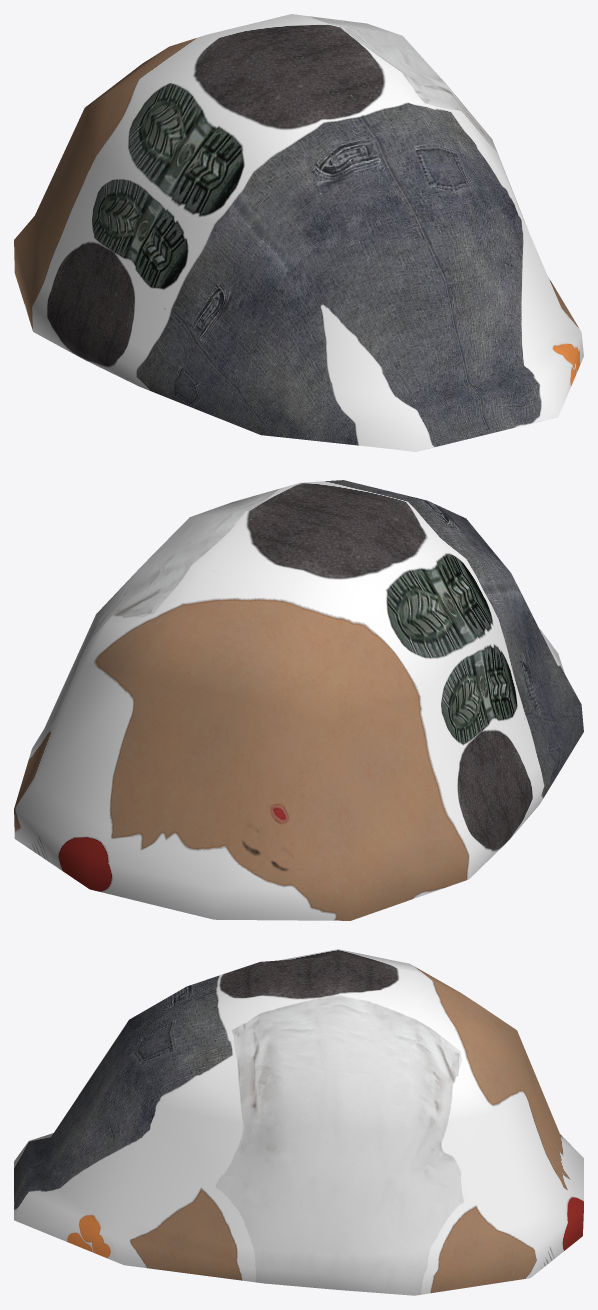
File: Helmet.fbx
3 views of the same model, one above another, from view 1: azimuth 30°, elevation 25°; view 2: azimuth 150°, elevation 25°; view 3: azimuth 270°, elevation 25° (orthographic). The views are drawn at different scales.
Parts seen in each view (by area): view 1: Helmet; view 2: Helmet; view 3: Helmet.
Part boxes in pixels (<box>): Helmet: <box>14,14,583,451</box>; Helmet: <box>14,480,583,920</box>; Helmet: <box>14,949,583,1295</box>.
Size of the model in its own units: 18.27 by 11.17 by 24.31.
